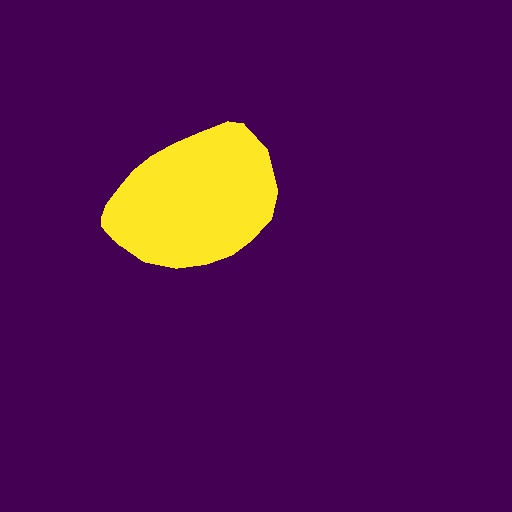Gliomia_tumour: (101, 121, 278, 269)
